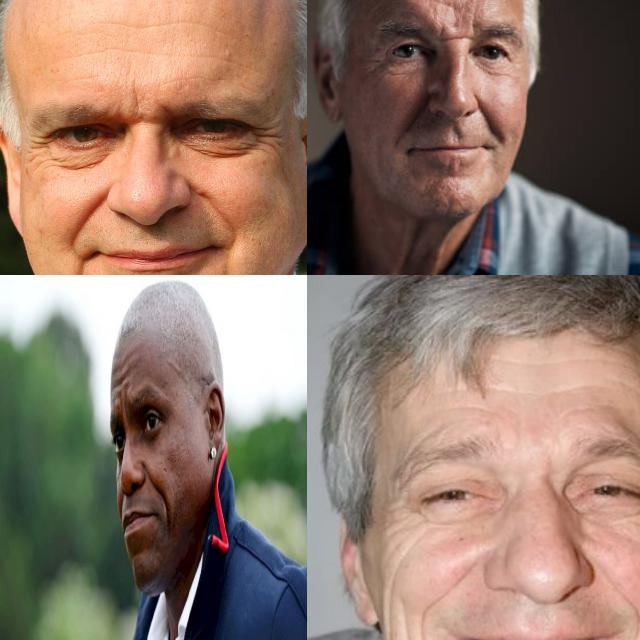crows_feet: (378, 489, 422, 537), (26, 132, 54, 158), (250, 123, 274, 153), (368, 54, 388, 85)
forehead: (101, 14, 200, 38), (402, 418, 446, 448), (504, 350, 554, 374), (557, 374, 597, 398), (459, 394, 495, 416), (114, 363, 128, 390)
frown_line: (435, 18, 473, 46), (128, 90, 146, 118), (119, 399, 128, 423)
gummy_smile: (75, 188, 105, 240), (410, 595, 437, 640), (398, 97, 432, 131), (616, 594, 640, 637), (474, 98, 494, 136), (144, 463, 164, 500), (118, 495, 125, 519)
masseter: (374, 565, 402, 635)
sad_smile: (163, 504, 171, 530)
